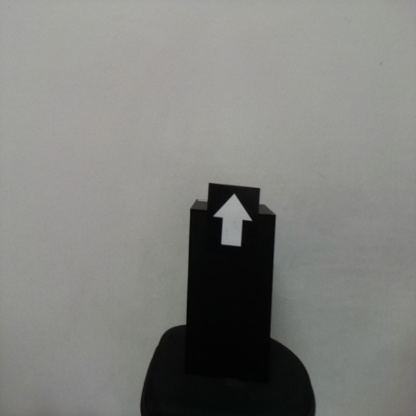id_1: (207, 185, 259, 263)
